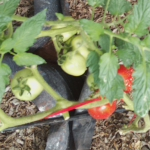tomato: (10, 67, 47, 102), (58, 49, 92, 87), (89, 88, 120, 120), (48, 16, 79, 42), (116, 63, 139, 96), (70, 35, 99, 60)
